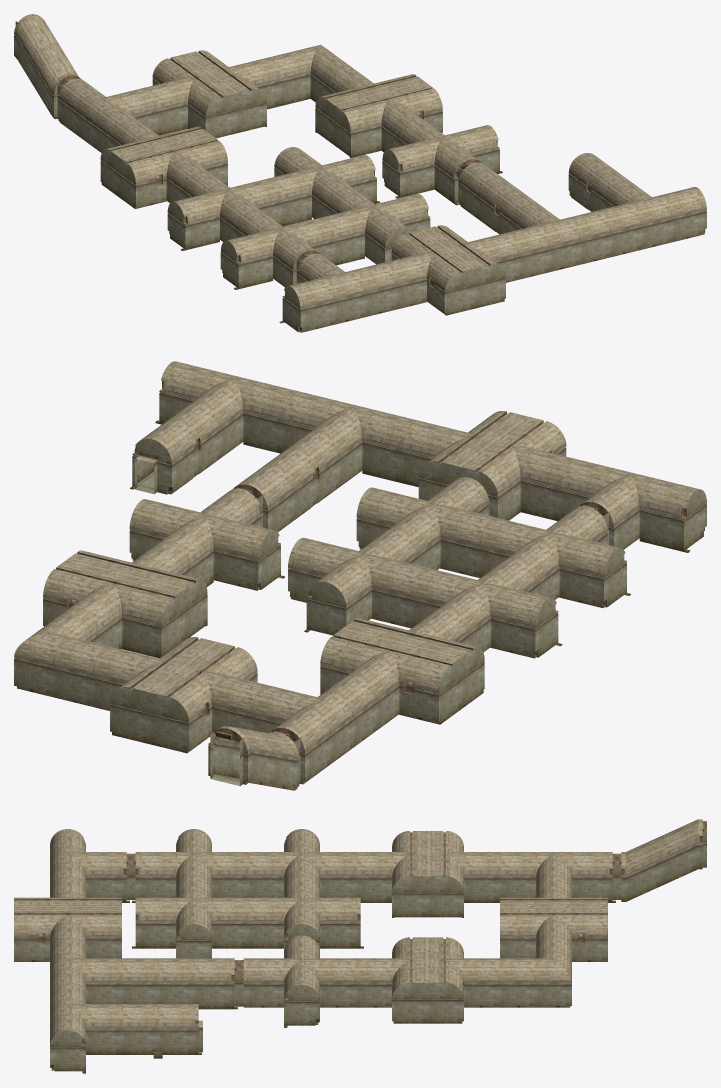
File: poi_all_bunker_allum_mine_r33_hall33_mesh_r33.fbx
3 renders of one model, top to bottom at view 1: azimuth 30°, elevation 25°; view 2: azimuth 150°, elevation 25°; view 3: azimuth 270°, elevation 25°, orthographic. The views are drawn at different scales.
Visible parts, largest first — view 1: mesh_node; view 2: mesh_node; view 3: mesh_node.
Part boxes in pixels (left/top/right/bottom): mesh_node: left=14, top=14, right=706, bottom=332; mesh_node: left=14, top=361, right=706, bottom=790; mesh_node: left=14, top=819, right=706, bottom=1073.
Size of the model in its own units: 53.8 by 9.1 by 77.
